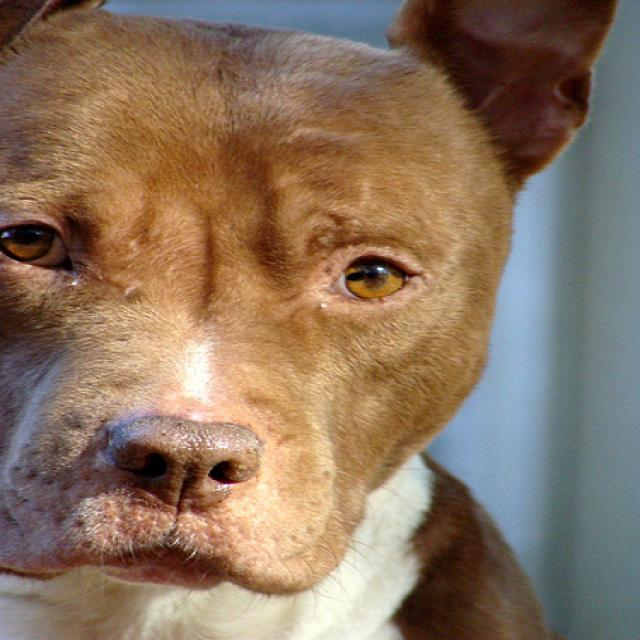dog-american_pit_bull_terrier: (2, 1, 633, 637)
